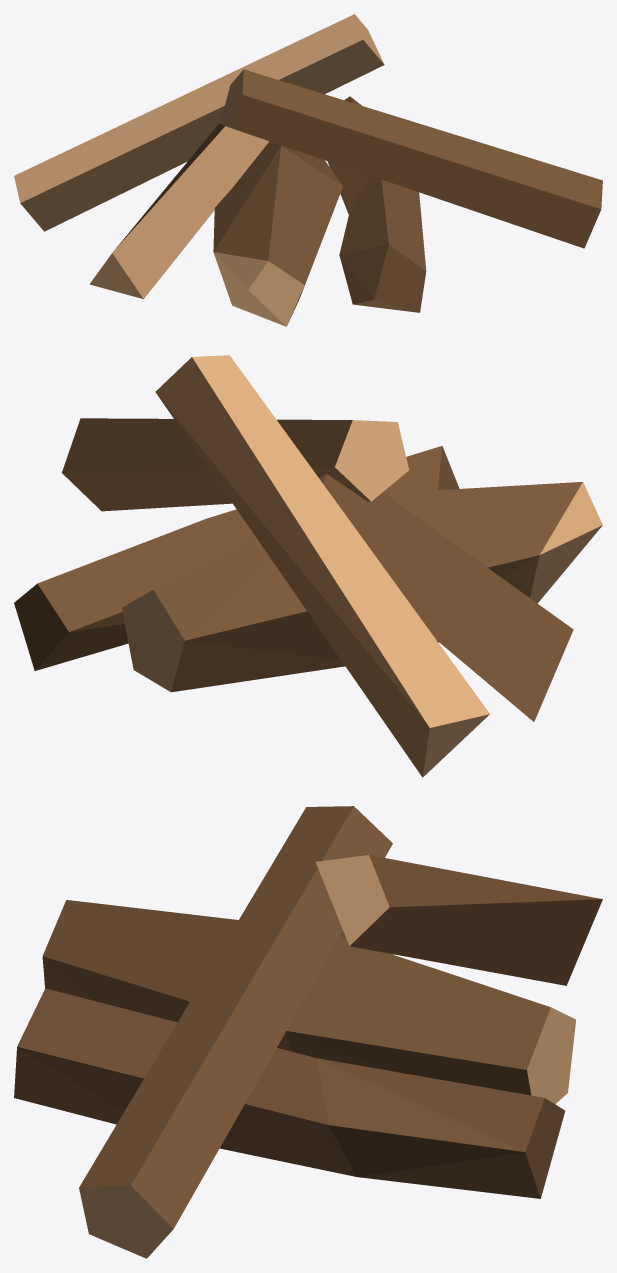
The model's file is Bonfire.fbx.
The picture shows the model from 3 angles, top to bottom: view 1: azimuth 30°, elevation 25°; view 2: azimuth 150°, elevation 25°; view 3: azimuth 270°, elevation 25°; orthographic projection. The views are drawn at different scales.
Parts seen in each view (by area): view 1: Bonfire; view 2: Bonfire; view 3: Bonfire.
Boxes of the visible parts, <box> form: Bonfire: <box>14,14,602,326</box>; Bonfire: <box>14,355,602,777</box>; Bonfire: <box>14,806,602,1258</box>.
Bounding box in the file's own units: 95.7 × 42.91 × 75.46.
